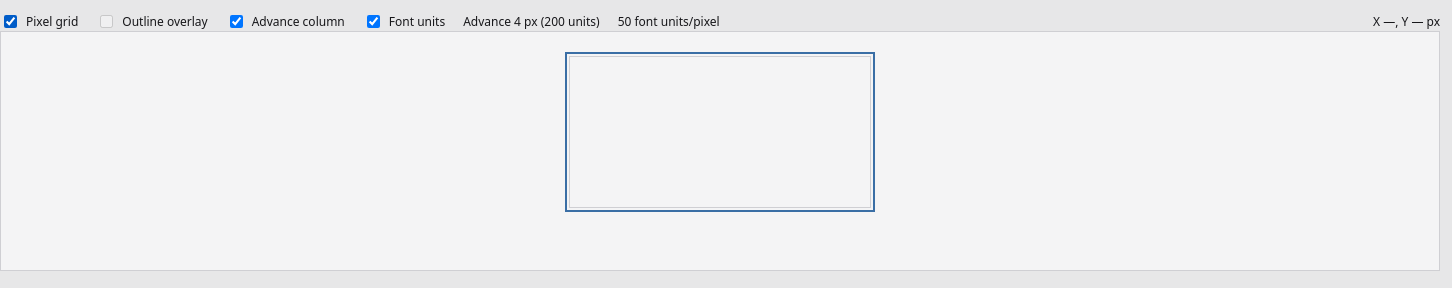
Test case: overlay switches and the font-unit readout › hides the unit readouts when font units are switched off
Click the checkbox labelled "Font units". click: (373, 22)
box: top-left (367, 15), bottom-right (380, 28)
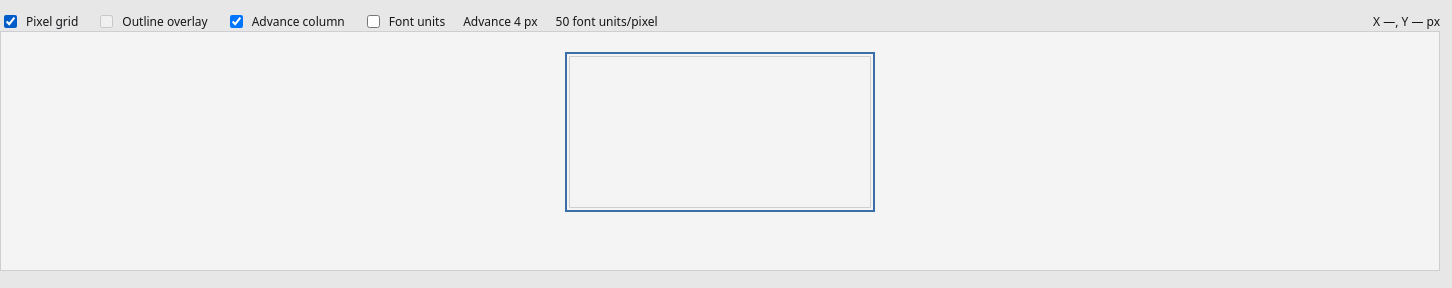
Press the mouse on the drawing named "Bitmap pixel canvas" at (720, 132), box top-left (569, 56), bottom-right (871, 208)
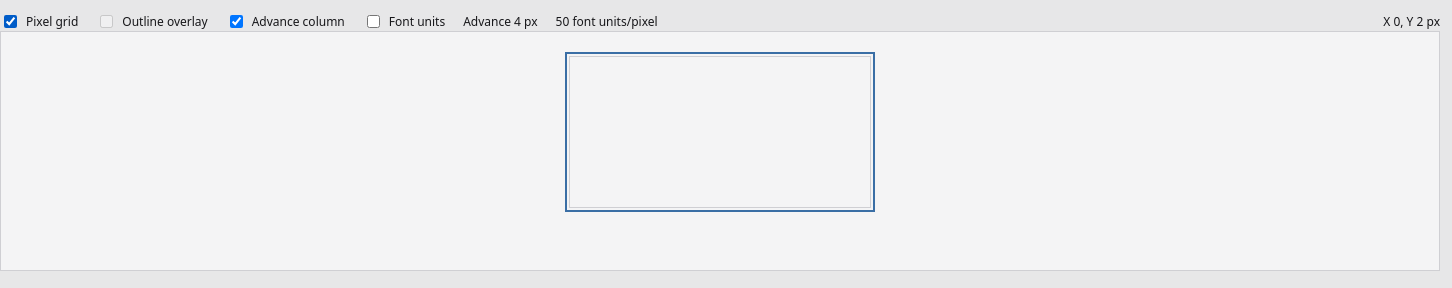
Expected: the text labelled "Bitmap pointer coordinates" does not show "units)"
Now the text named "Bitmap pointer coordinates" reads "X 0, Y 2 px", box top-left (1383, 13), bottom-right (1440, 30)
